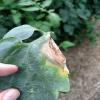Tomato mold leaf: (0, 24, 71, 99)
